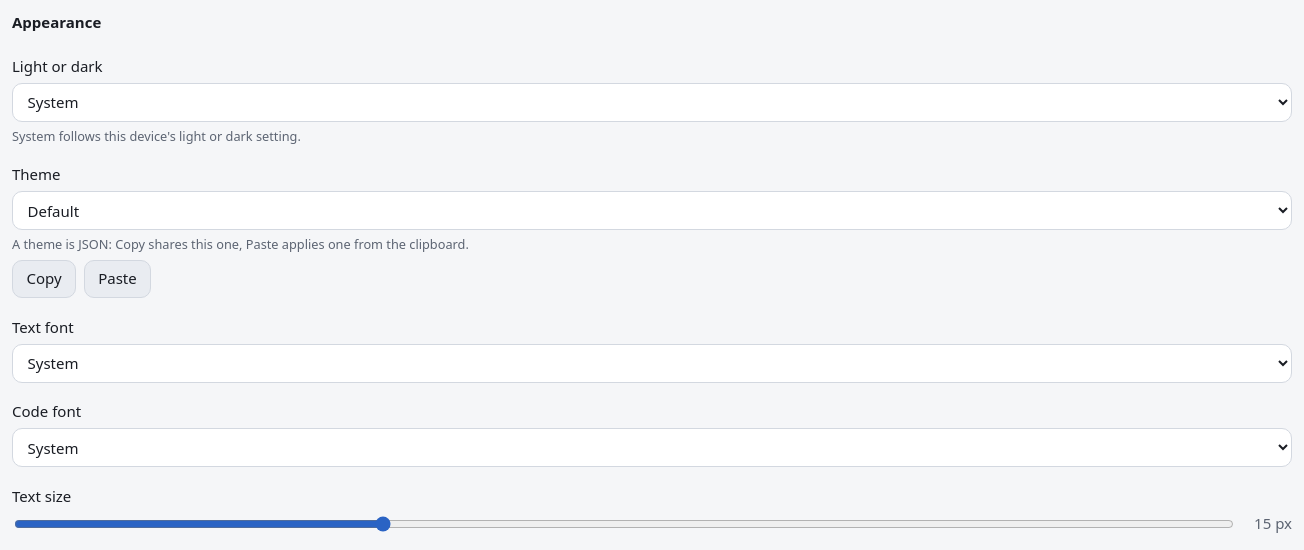
offers the three modes and the size slider, each applied at once
The image size is (1304, 550).
Expected: the text "System follows this device's light or dark setting." is shown, [12,126,301,144]
Select "Light" in the dropdown labelled "Light or dark". click: point(652, 102)
box: [12,82,1292,122]
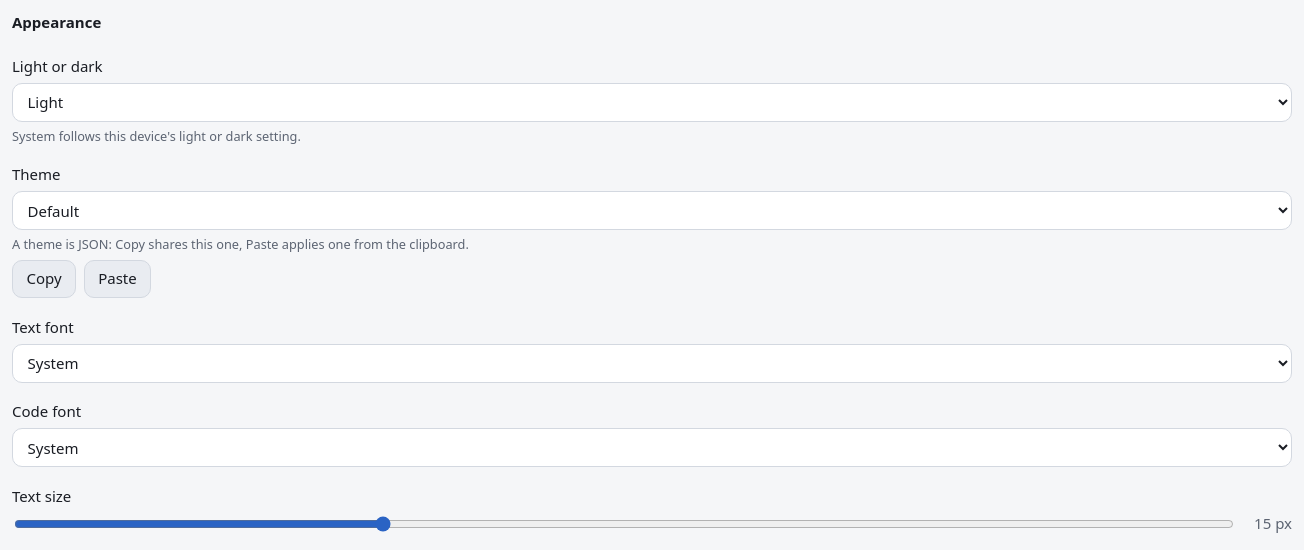
Expected: the text "15 px" is shown, [1254,513,1292,533]
Set the slider with id "flux-font-size" to "18". click: point(744, 524)
box: [14,516,1234,532]
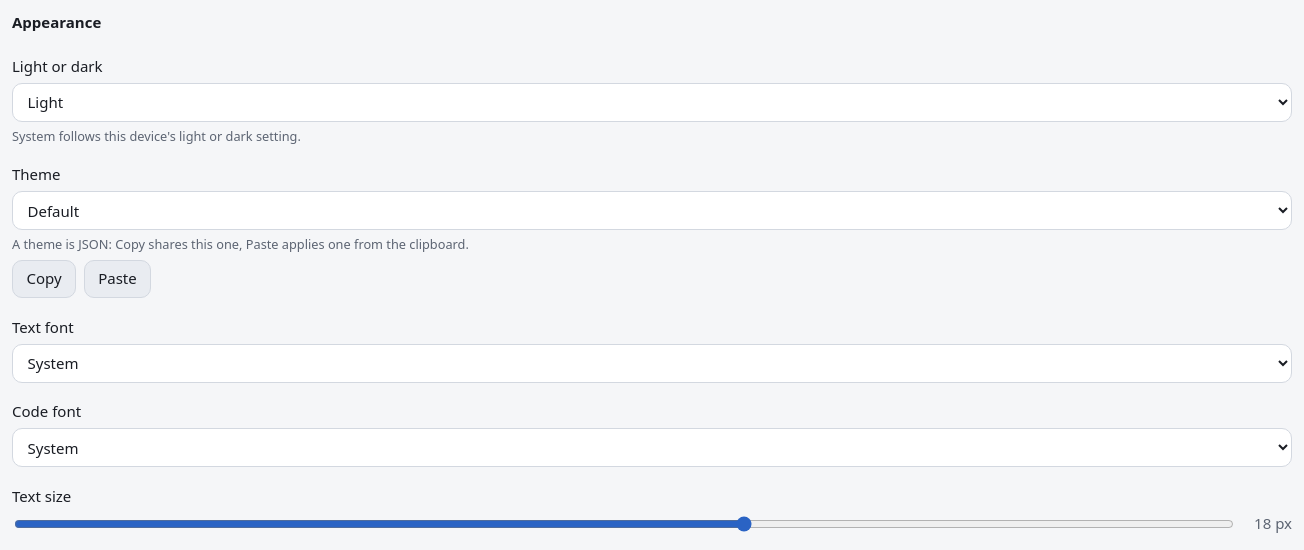
Result: the text "18 px" is shown at [1254,513,1292,533]
